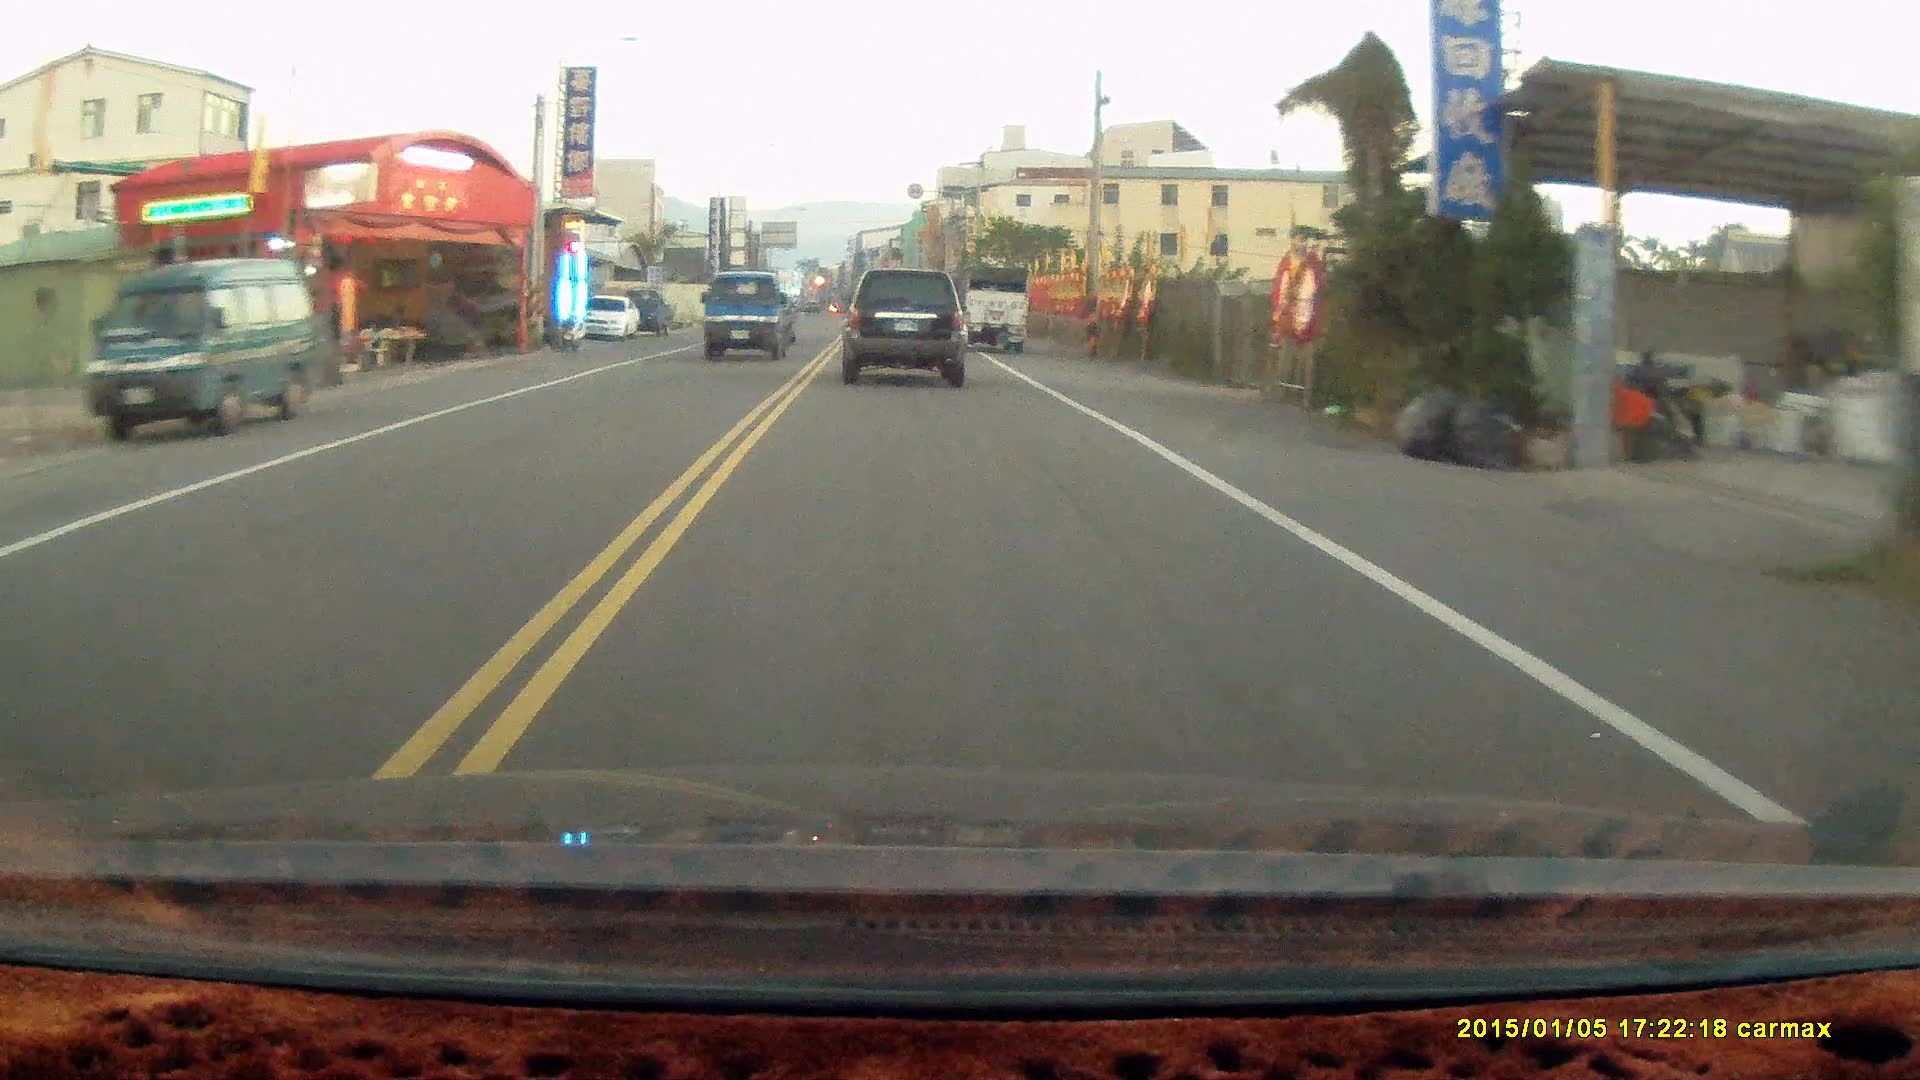vehicle: (88, 256, 314, 447), (843, 269, 968, 386), (702, 268, 798, 361), (938, 262, 1033, 353), (582, 295, 642, 340)
